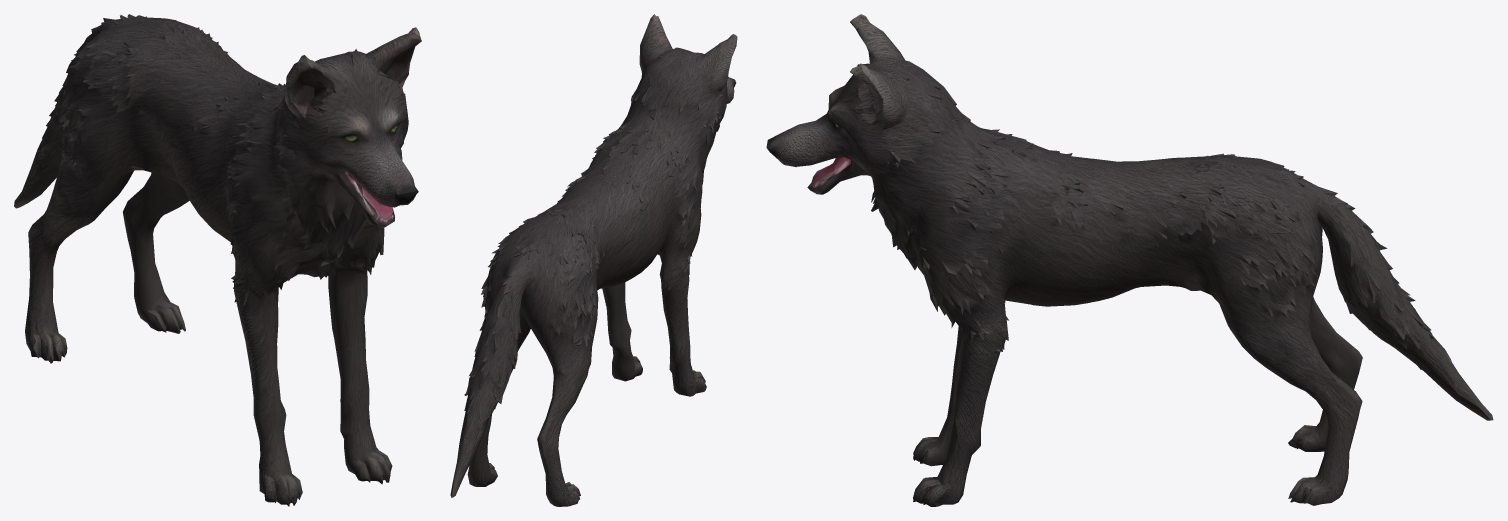
Rendered from wolf_idle.glb.
3 renders of one model, left to right at view 1: azimuth 30°, elevation 25°; view 2: azimuth 150°, elevation 25°; view 3: azimuth 270°, elevation 25°, orthographic. The views are drawn at different scales.
Parts seen in each view (by area): view 1: tripo_node_b8c16cb4-2b79-47e3-a2e1-8530bd05344b; view 2: tripo_node_b8c16cb4-2b79-47e3-a2e1-8530bd05344b; view 3: tripo_node_b8c16cb4-2b79-47e3-a2e1-8530bd05344b.
Boxes of the visible parts, box(x1,y1,x2,y2) form: tripo_node_b8c16cb4-2b79-47e3-a2e1-8530bd05344b: box(14, 14, 421, 506); tripo_node_b8c16cb4-2b79-47e3-a2e1-8530bd05344b: box(450, 14, 737, 506); tripo_node_b8c16cb4-2b79-47e3-a2e1-8530bd05344b: box(766, 14, 1493, 506).
Size of the model in its own units: 0.287 by 0.8016 by 1.2.
Materials: 1 (1 with a texture image).
